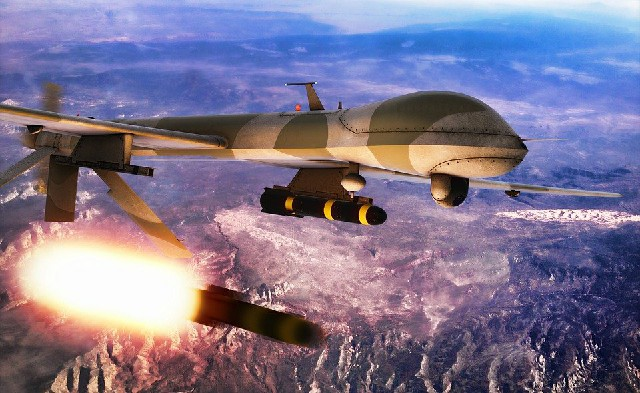maybay_khongnguoilai: (11, 79, 625, 236)
